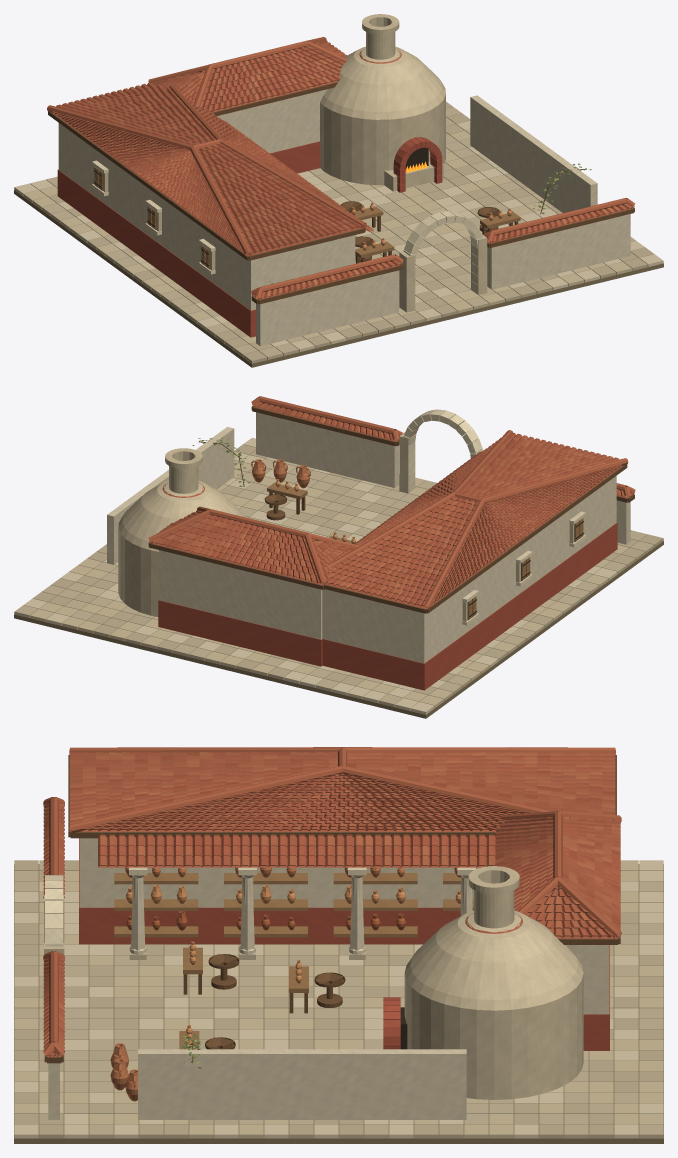
Rendered from toepferei.glb.
3 renders of one model, top to bottom at view 1: azimuth 30°, elevation 25°; view 2: azimuth 150°, elevation 25°; view 3: azimuth 270°, elevation 25°, orthographic. The views are drawn at different scales.
Visible parts, largest first — view 1: Limewash.001, Limewash.002, Tile_0.001, Travertine.001, Tile_1.001, Paving_1.001, Paving_3.001, Paving_0.001, Paving_2.001, Pompeian_red.002, Tile_5.001, Oak.001 (+11 smaller); view 2: Limewash.001, Limewash.002, Tile_0.001, Pompeian_red.002, Tile_1.001, Paving_0.001, Travertine.001, Paving_3.001, Paving_1.001, Pompeian_red.001, Paving_2.001, Tile_5.001 (+12 smaller); view 3: Limewash.001, Tile_0.001, Travertine.001, Tile_1.001, Paving_1.001, Paving_3.001, Paving_0.001, Paving_2.001, Limewash.002, Tile_5.001, Pompeian_red.001, Earth.002 (+16 smaller).
Part boxes in pixels (x1,y1,x2,y2): Limewash.001: (59,89,594,345); Limewash.002: (58,92,630,346); Tile_0.001: (54,40,627,299); Travertine.001: (94,14,486,312); Tile_1.001: (47,37,635,299); Paving_1.001: (49,101,653,363); Paving_3.001: (42,107,635,359); Paving_0.001: (23,129,631,344); Paving_2.001: (14,120,663,351); Pompeian_red.002: (57,141,442,337); Tile_5.001: (68,42,633,294); Oak.001: (48,82,634,304); Limewash.001: (107,412,628,662); Limewash.002: (107,412,630,663); Tile_0.001: (149,406,631,607); Pompeian_red.002: (158,522,617,690); Tile_1.001: (148,396,635,609); Paving_0.001: (30,461,628,707); Travertine.001: (118,433,583,621); Paving_3.001: (14,459,654,706); Paving_1.001: (33,444,663,695); Pompeian_red.001: (159,601,487,688); Paving_2.001: (24,437,617,714); Tile_5.001: (150,403,622,603); Limewash.001: (49,838,608,1119); Tile_0.001: (43,751,620,1049); Travertine.001: (45,866,583,1099); Tile_1.001: (43,747,621,1056); Paving_1.001: (14,860,663,1138); Paving_3.001: (14,860,663,1138); Paving_0.001: (14,860,663,1138); Paving_2.001: (14,860,663,1138); Limewash.002: (48,838,609,1119); Tile_5.001: (43,752,620,1055); Pompeian_red.001: (80,909,608,1049); Earth.002: (14,864,663,1143).
Size of the model in its own units: 17.8 by 5.9 by 17.8.
Materials: 27 (8 with a texture image).
